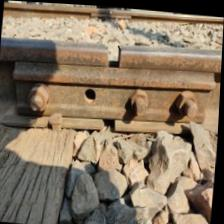person: (88, 30, 135, 80), (96, 112, 123, 135), (105, 6, 114, 14)
